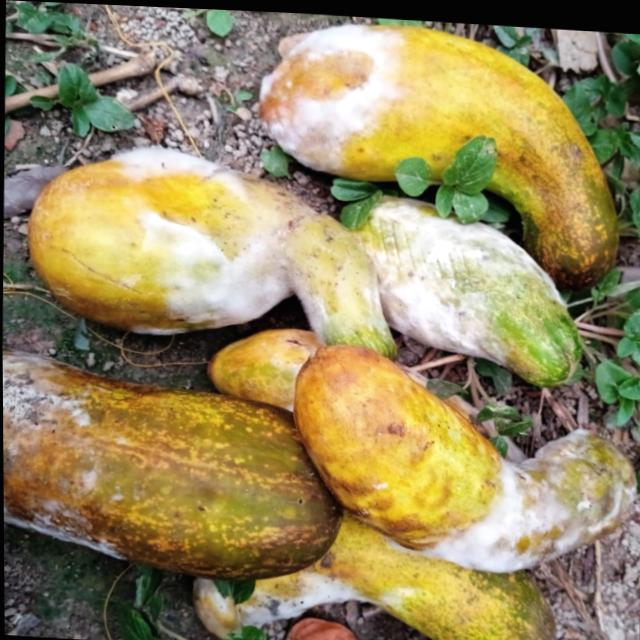Pythium-Fruit-Rot: (108, 139, 386, 350), (412, 409, 639, 578), (361, 183, 571, 361), (247, 14, 408, 175), (2, 352, 120, 566), (189, 556, 401, 640)
